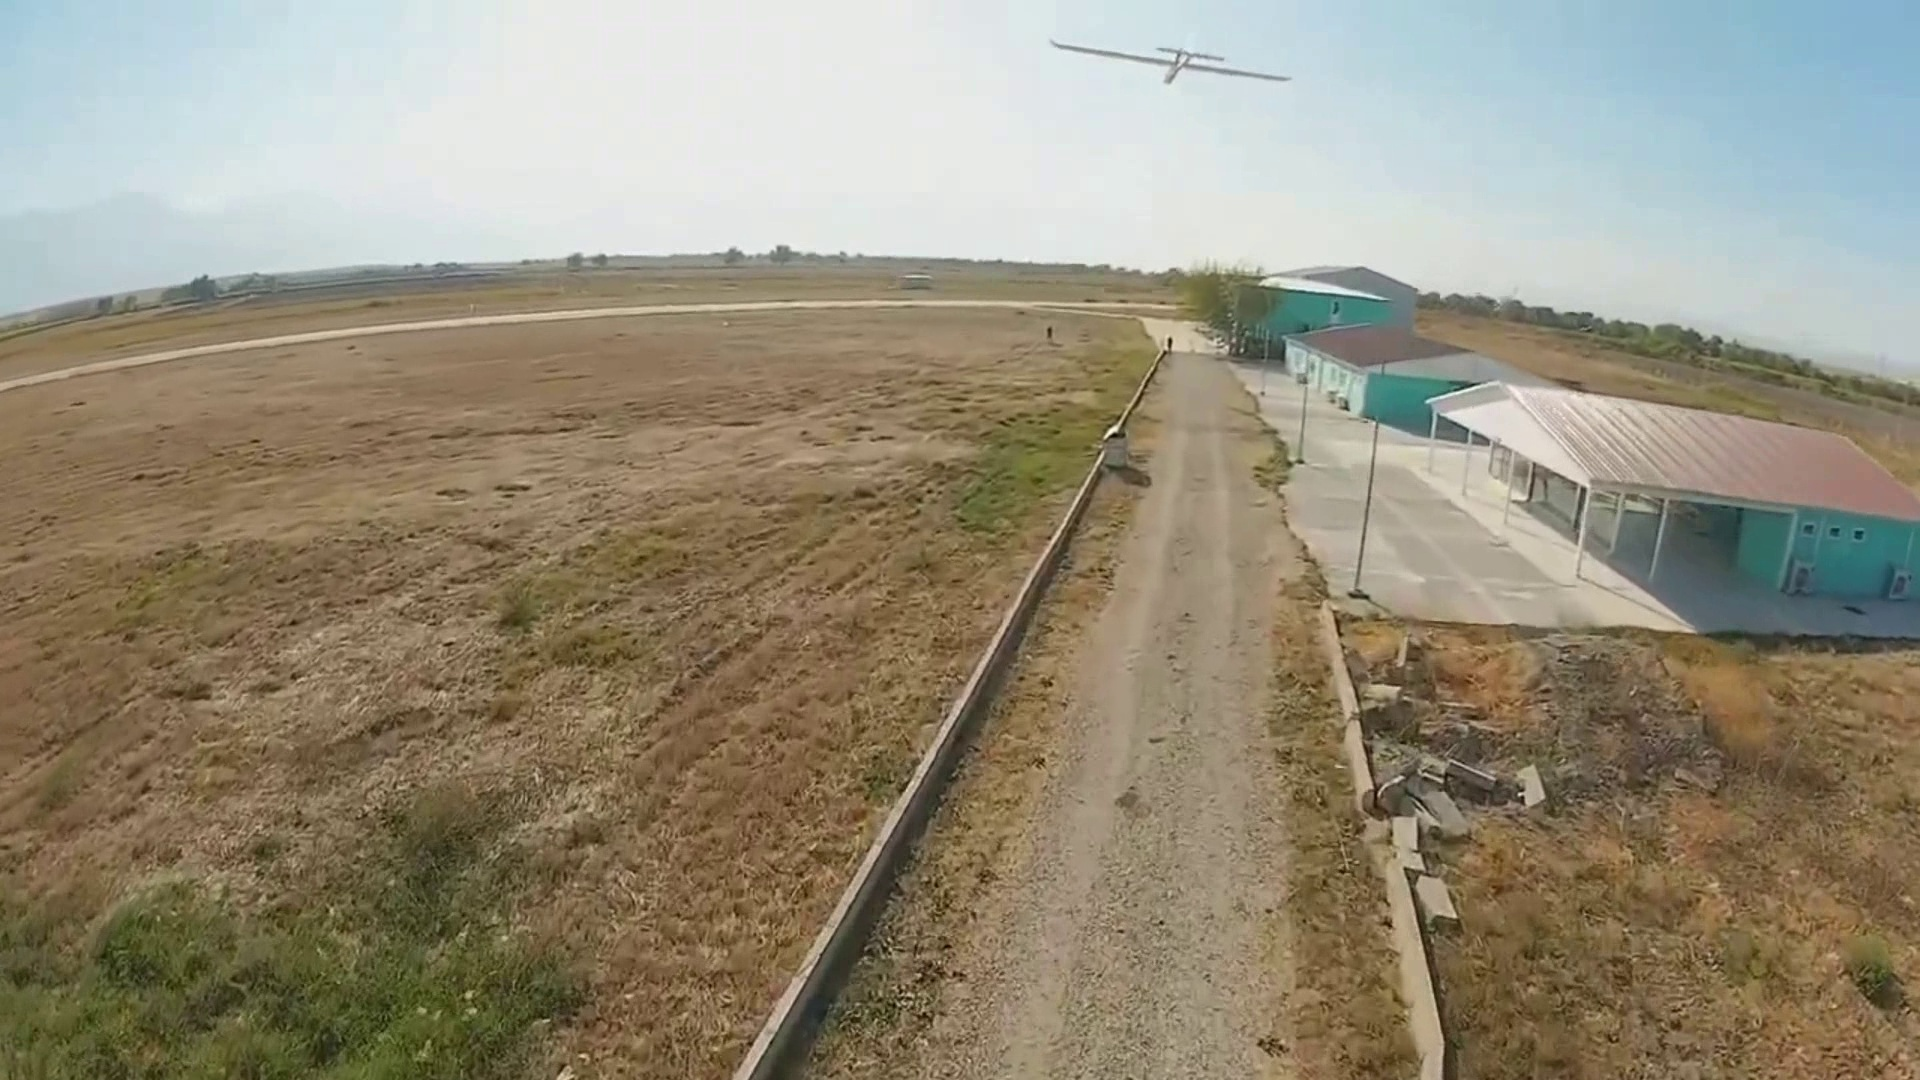airplane: (1047, 33, 1292, 91)
